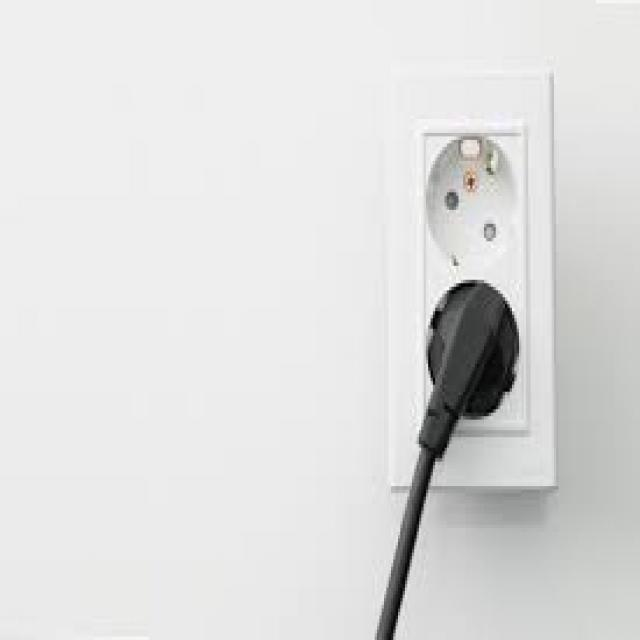typeb: (334, 35, 576, 576)
